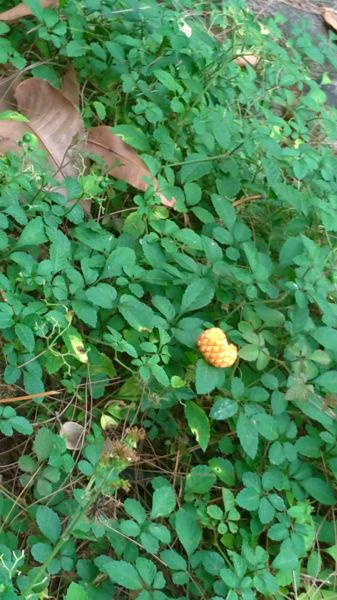eggs: (191, 323, 240, 374)
